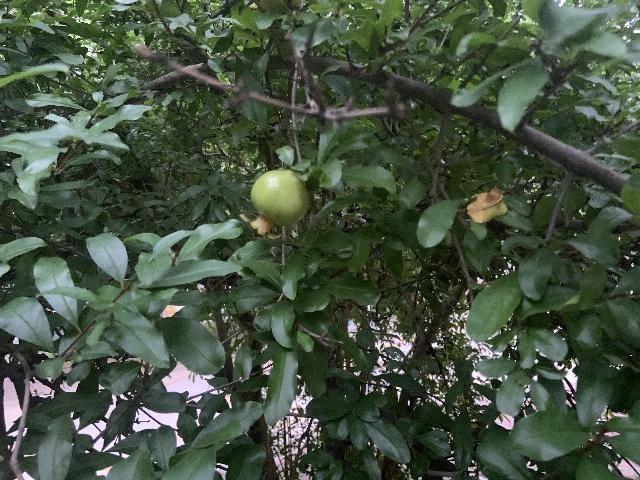mid-growth: (238, 168, 310, 239)
